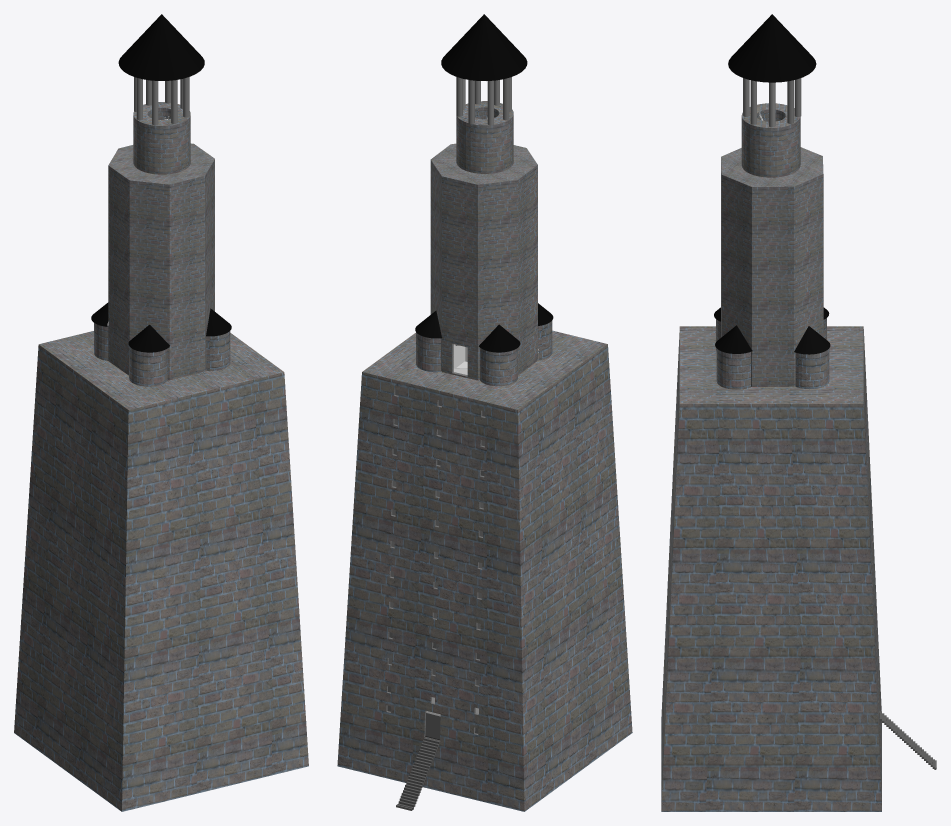
File: pharos.glb
3 views of the same model, side by side, from view 1: azimuth 30°, elevation 25°; view 2: azimuth 150°, elevation 25°; view 3: azimuth 270°, elevation 25° (orthographic). The views are drawn at different scales.
Visible parts, largest first — view 1: achteck, achteck.005; view 2: achteck, achteck.005, Treppe; view 3: achteck, achteck.005, achteck.008, Treppe.
Part boxes in pixels (bbox=[...]): achteck: bbox=[14, 14, 308, 811]; achteck.005: bbox=[133, 102, 190, 174]; achteck: bbox=[337, 14, 632, 811]; achteck.005: bbox=[456, 101, 513, 173]; Treppe: bbox=[397, 737, 440, 809]; achteck: bbox=[661, 14, 936, 811]; achteck.005: bbox=[741, 103, 800, 177]; achteck.008: bbox=[794, 326, 830, 354]; Treppe: bbox=[879, 711, 934, 768].
Bounding box in the file's own units: 60 × 226 × 74.82.
35 materials, 6 textured.
